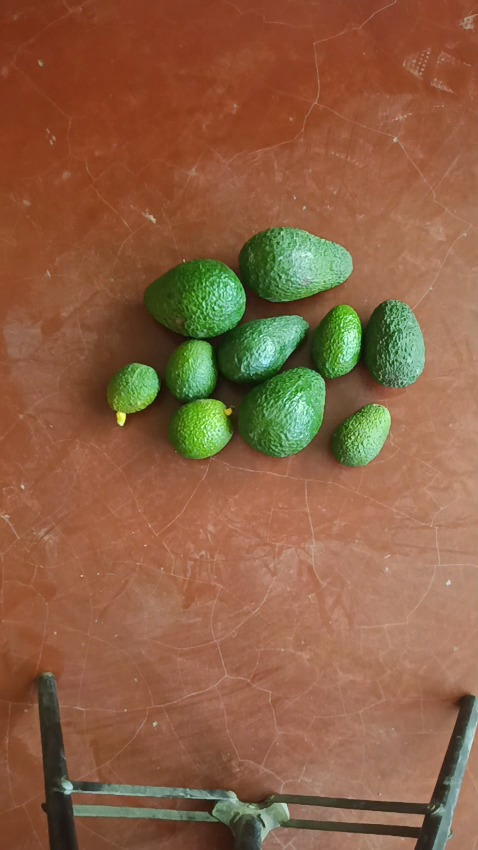Primera: (238, 227, 353, 302), (145, 259, 246, 338), (237, 368, 326, 455)
Segunda: (217, 315, 310, 384), (363, 300, 425, 388)
Tercera: (168, 398, 234, 458), (311, 304, 363, 379), (330, 403, 391, 466), (165, 339, 219, 402), (107, 362, 160, 415)
